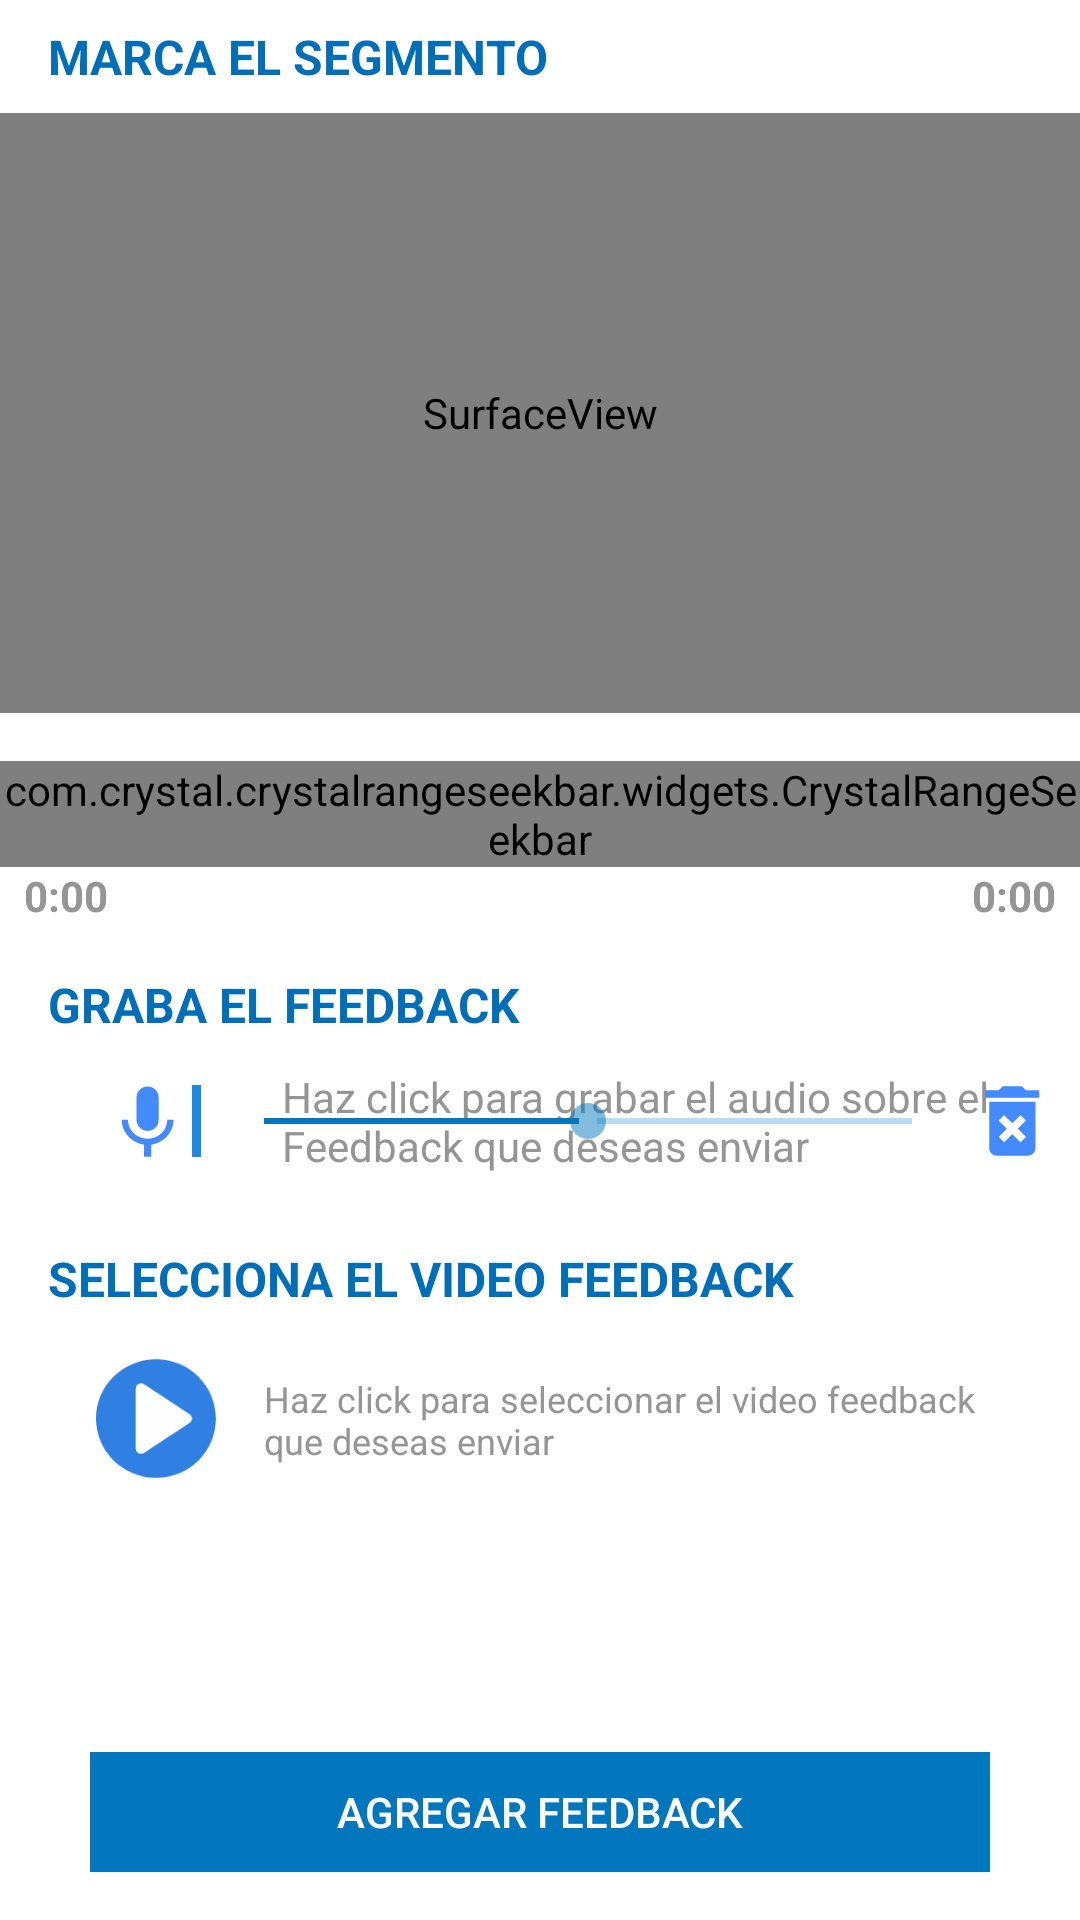

Point at icon controls on the screen. Image size 1080 × 1920, points as point (x, y).
delete: point (1012, 1120)
lapp play: point (156, 1418)
record voice: point (147, 1121)
